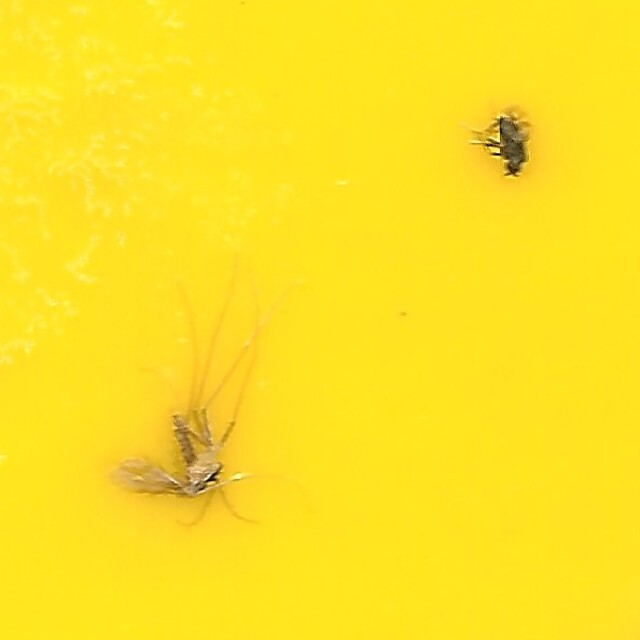Brachycera: (464, 113, 532, 180)
Nematocera: (108, 249, 304, 527)
